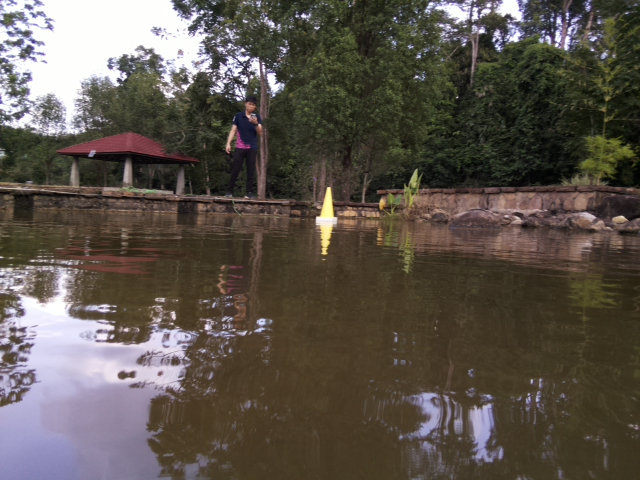checkpoint: (314, 186, 339, 222)
